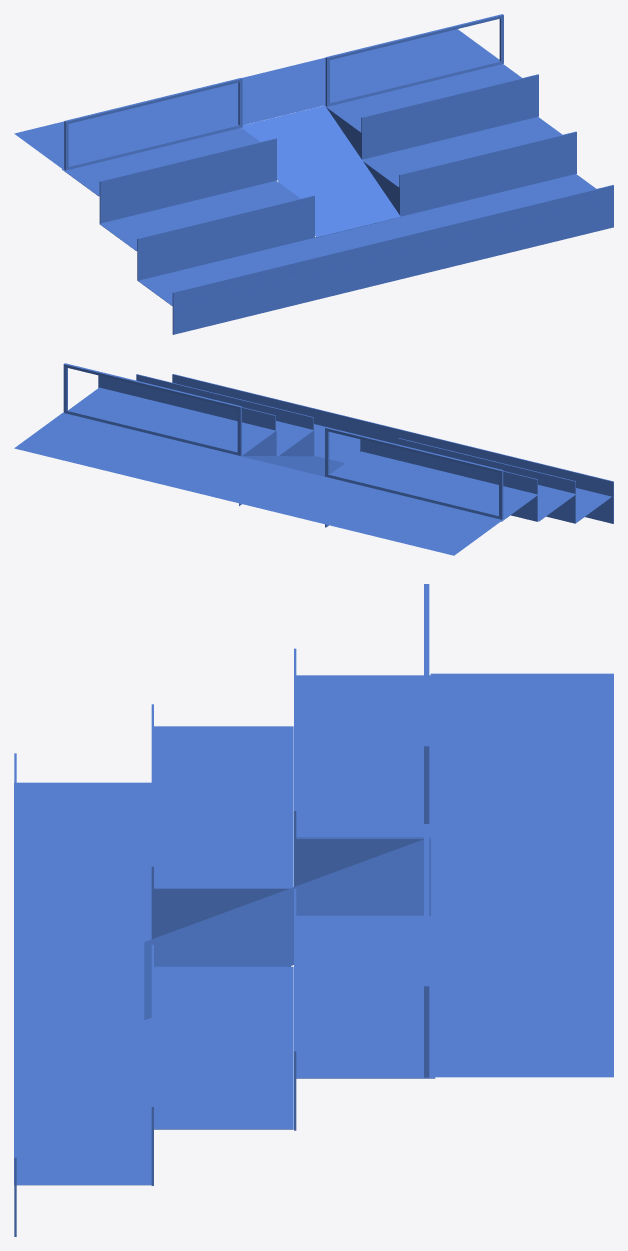
File: 観客席.fbx
3 renders of one model, top to bottom at view 1: azimuth 30°, elevation 25°; view 2: azimuth 150°, elevation 25°; view 3: azimuth 270°, elevation 25°, orthographic. The views are drawn at different scales.
Parts seen in each view (by area): view 1: 立方体.002; view 2: 立方体.002; view 3: 立方体.002.
Part boxes in pixels (x1,y1,x2,y2): 立方体.002: (14, 14, 613, 334); 立方体.002: (14, 363, 613, 555); 立方体.002: (14, 584, 613, 1236).
Bounding box in the file's own units: 1896 × 546 × 1188.
